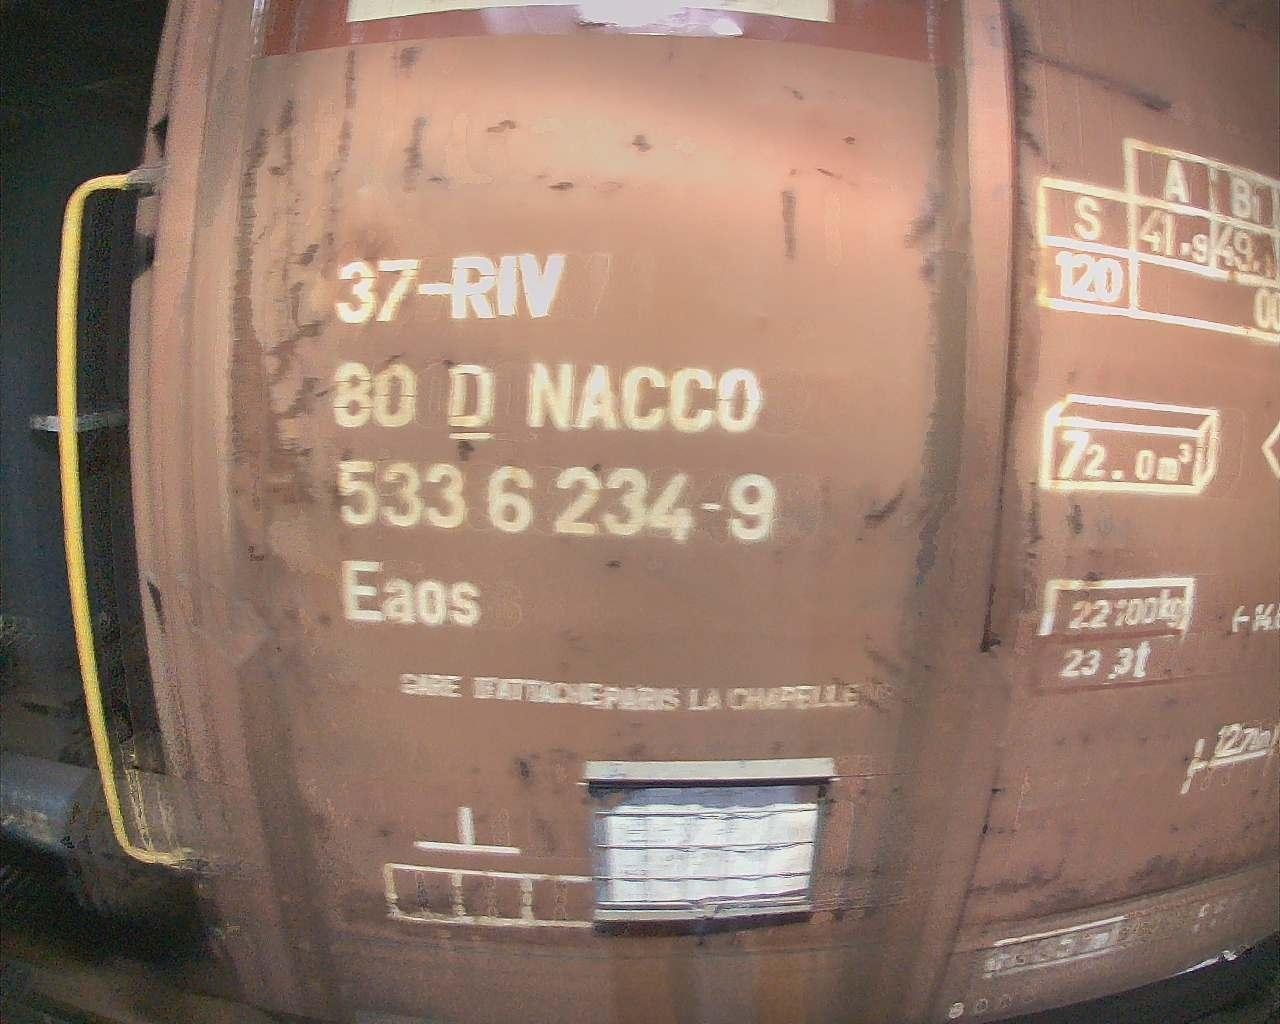UIC: (321, 250, 793, 632)
